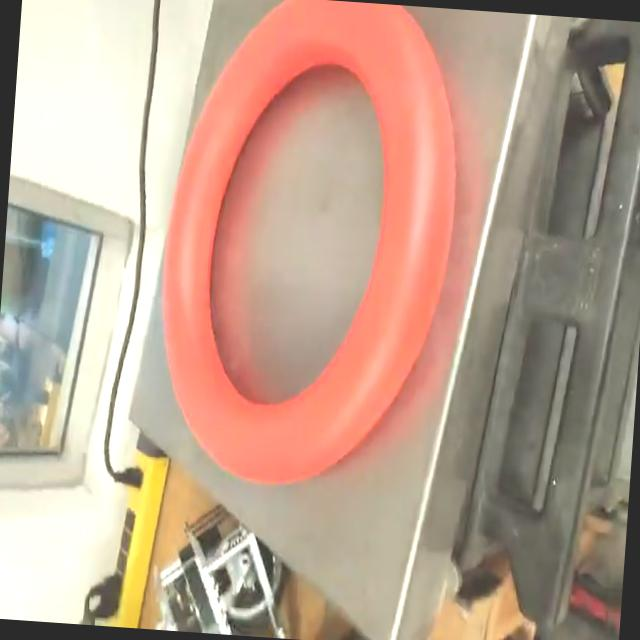note: (145, 0, 473, 495)
